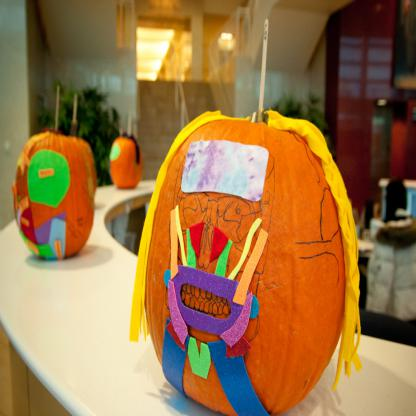Pumpkin: (139, 110, 366, 415), (13, 127, 98, 262), (108, 132, 148, 187), (65, 130, 98, 194)
